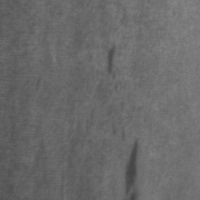inclusion: (122, 137, 145, 199), (100, 41, 121, 81)
